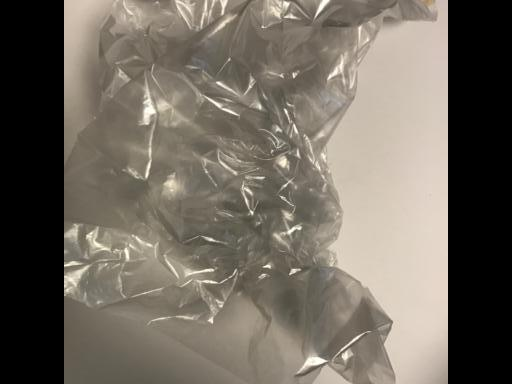trash: (67, 4, 397, 381)
